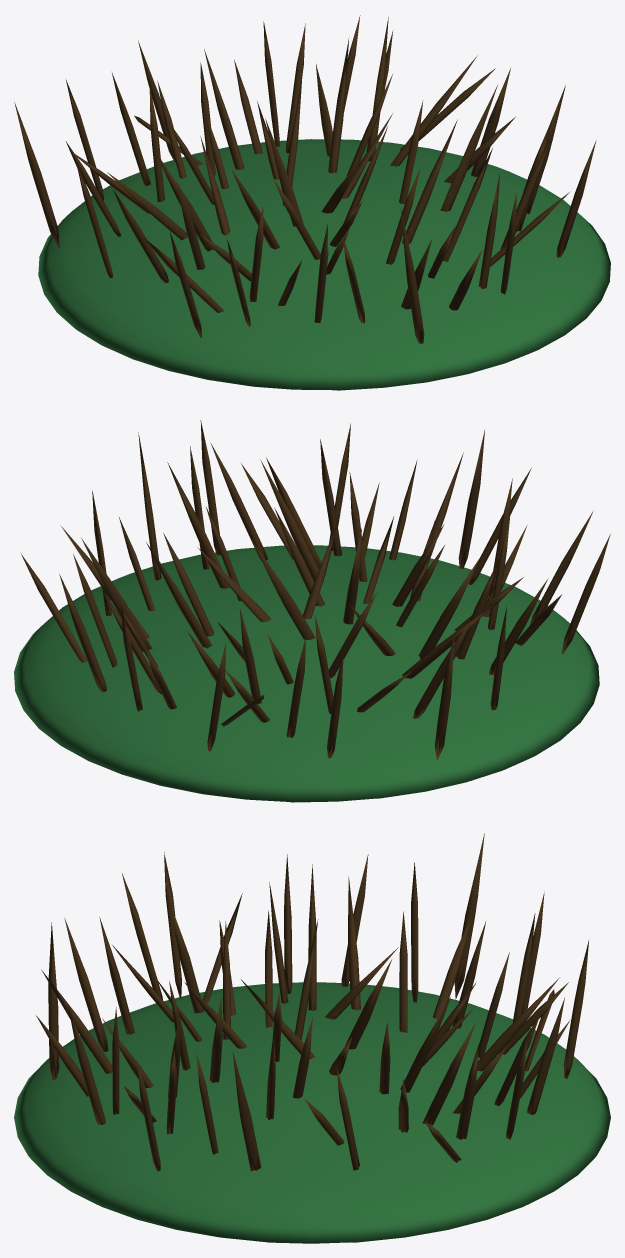
Rendered from Espinas.fbx.
3 views of the same model, one above another, from view 1: azimuth 30°, elevation 25°; view 2: azimuth 150°, elevation 25°; view 3: azimuth 270°, elevation 25° (orthographic). The views are drawn at different scales.
Parts seen in each view (by area): view 1: GEO_Espinas; view 2: GEO_Espinas; view 3: GEO_Espinas.
Boxes of the visible parts, x1,y1,x2,y2 form: GEO_Espinas: [14, 15, 610, 390]; GEO_Espinas: [14, 420, 610, 802]; GEO_Espinas: [14, 833, 610, 1243].
Bounding box in the file's own units: 200 × 67.69 × 200.
